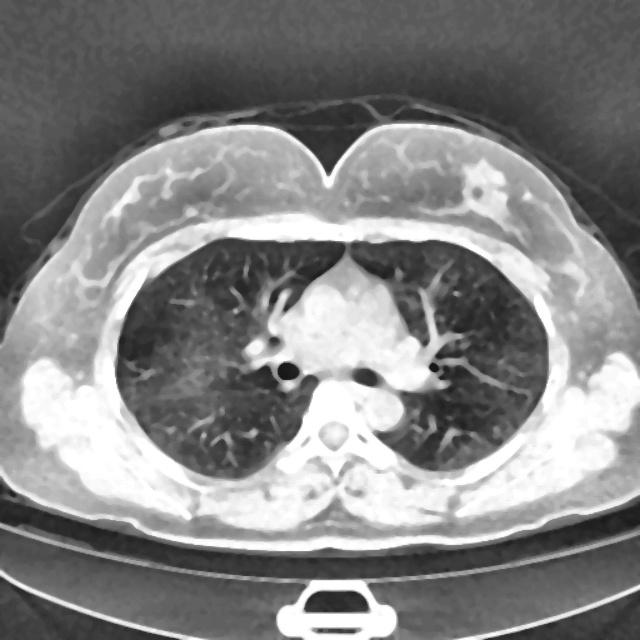covid: (0, 103, 639, 558)
